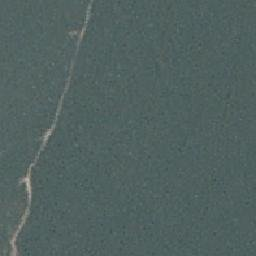debris: (19, 165, 34, 215), (39, 116, 53, 160), (73, 13, 87, 57), (10, 219, 25, 256), (61, 65, 71, 111)
